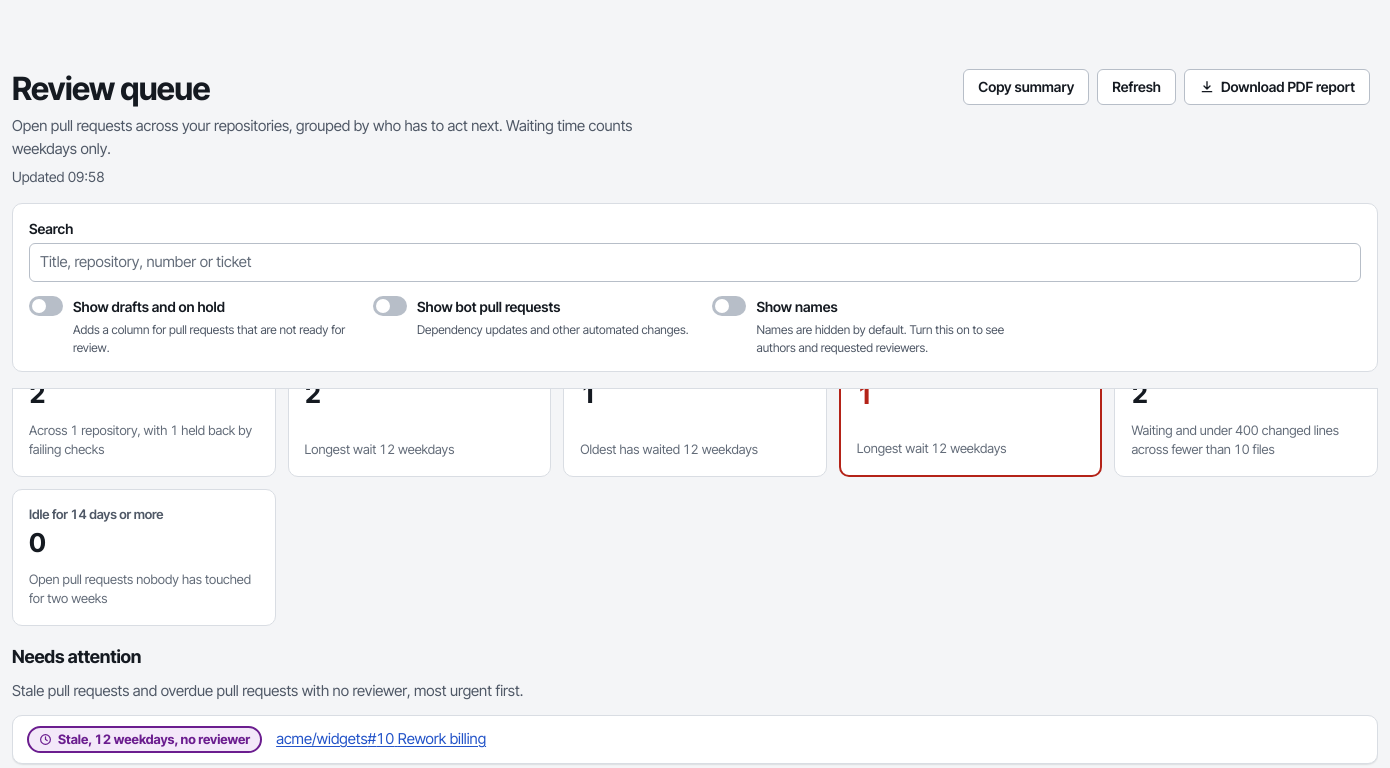
ReviewQueuePage › copies a summary without names and confirms it
Expected: the heading "Waiting for review" is shown, [29,356,131,372]
Click the button "Copy summary" at (1026, 87), box [963,69,1089,105]
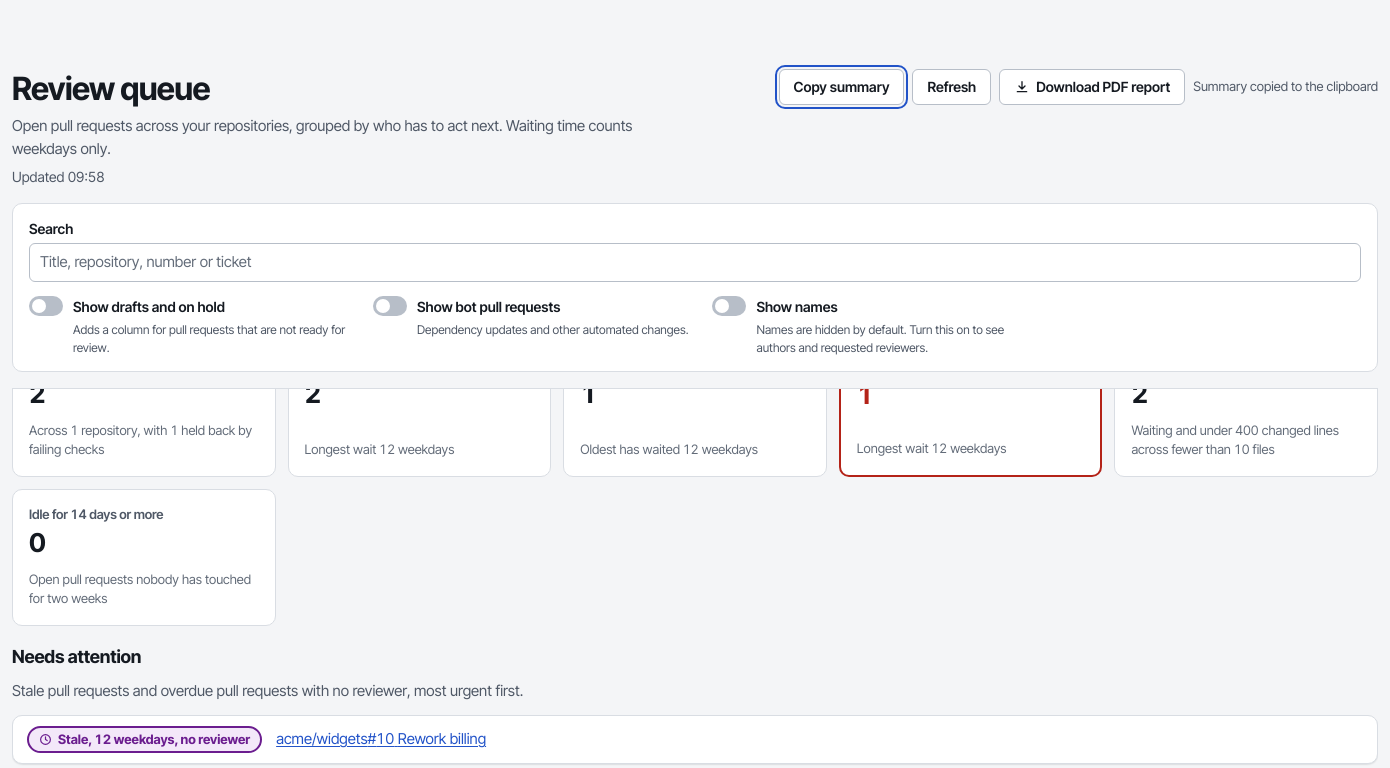
Now the text "Summary copied to the clipboard" is shown, box [1193,77,1378,97]
